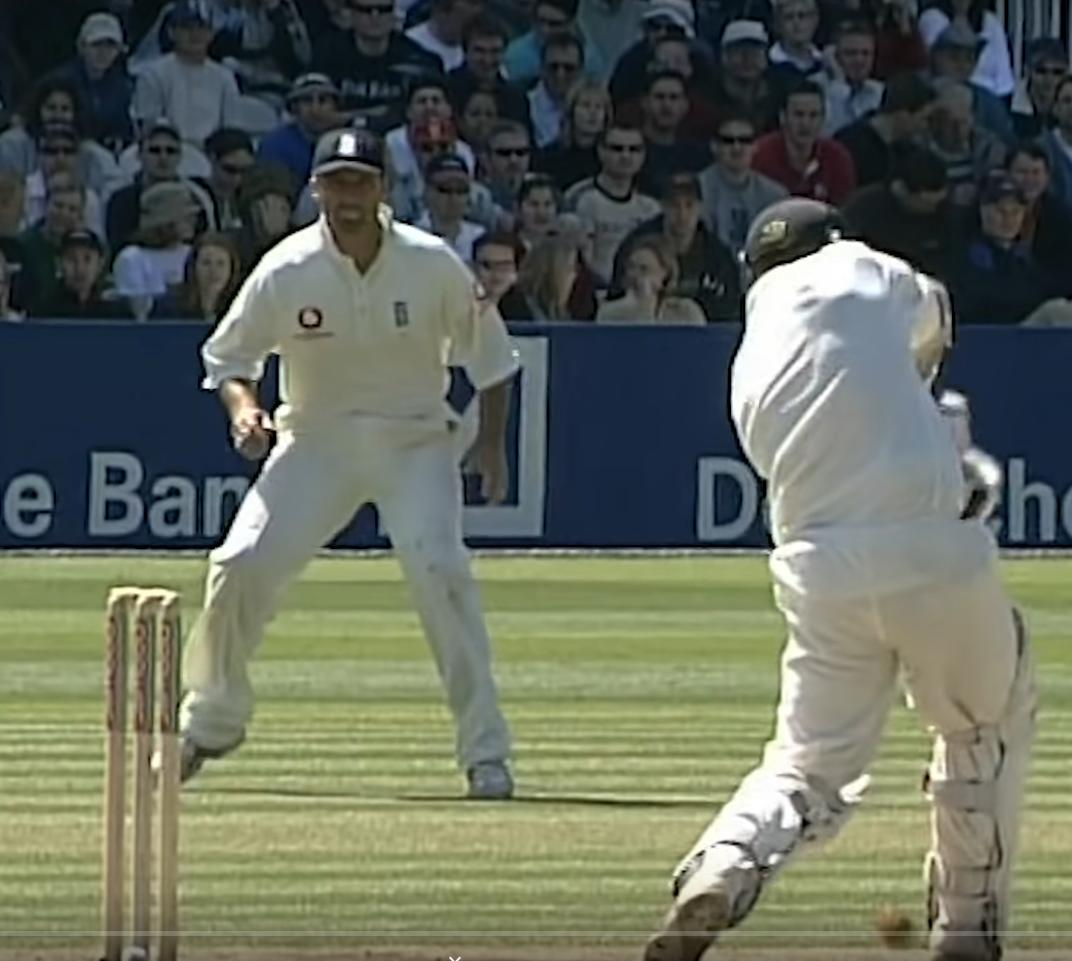Cricket-Ball: (871, 909, 927, 954)
